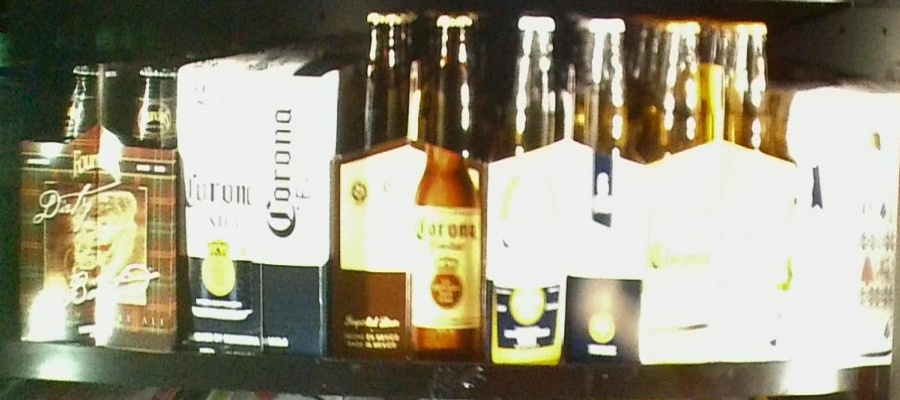bottle: (328, 8, 487, 365), (490, 12, 642, 364), (8, 61, 183, 352), (643, 13, 786, 360), (177, 57, 327, 357), (790, 88, 899, 350)
